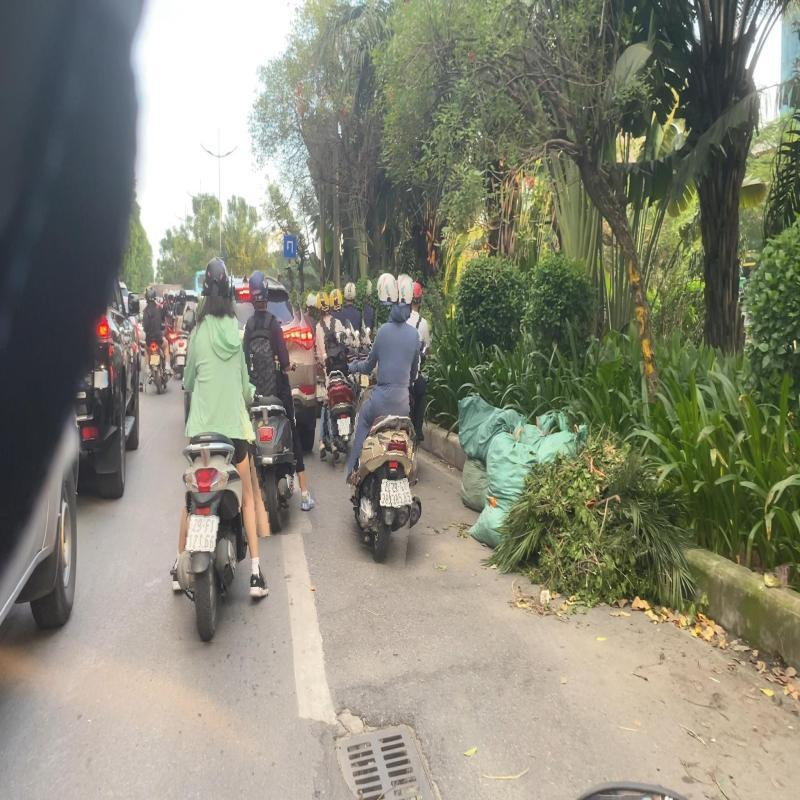helmet: (202, 257, 231, 296), (257, 268, 281, 301), (376, 273, 399, 305), (330, 289, 344, 312), (344, 282, 356, 302), (148, 286, 160, 304), (306, 293, 317, 308)
licenseplate: (185, 514, 219, 554), (388, 478, 412, 506), (329, 417, 344, 436), (150, 354, 159, 367)
motorcyclist: (170, 257, 270, 642), (342, 270, 431, 565), (239, 268, 312, 536), (312, 289, 368, 470), (140, 286, 174, 395)
